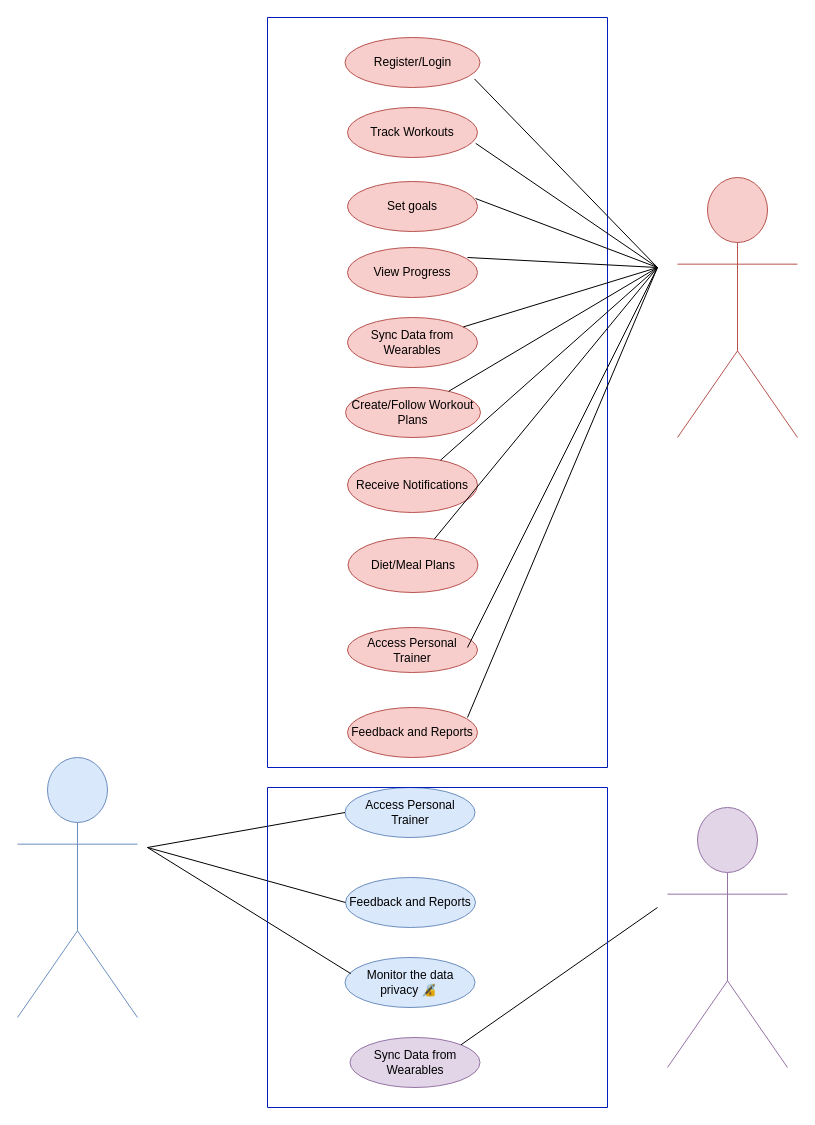
Image size: 815x1125. Some labels were removed from this diagram. Here are the shapes that lost their labels. From the top down, the box of each, then its label:
(676, 176, 798, 438): User
(16, 756, 138, 1018): Administrator
(666, 806, 788, 1068): Device
